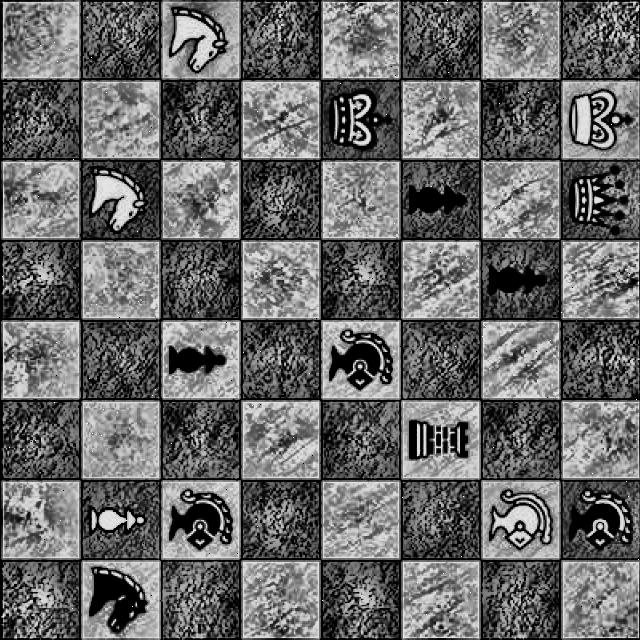Black Knight: (78, 566, 161, 640)
black bishop: (162, 486, 238, 560), (319, 326, 397, 394), (568, 488, 636, 554)
black king: (323, 86, 397, 152)
black pawn: (160, 329, 228, 393), (402, 172, 472, 230), (484, 257, 556, 309)
black queen: (558, 168, 640, 237)
black rook: (402, 408, 476, 473)
white bishop: (481, 484, 556, 562)
white king: (563, 86, 639, 154)
white pawn: (82, 491, 160, 547)
whiteknight: (162, 4, 235, 79), (85, 166, 146, 236)
